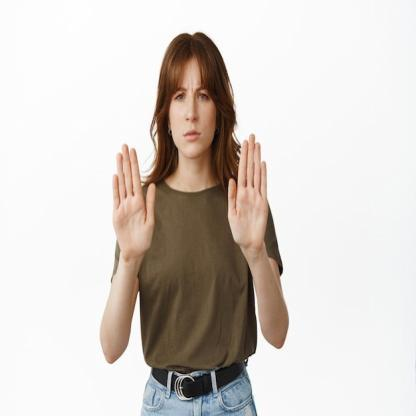stop: (106, 140, 158, 264), (224, 133, 271, 253)
